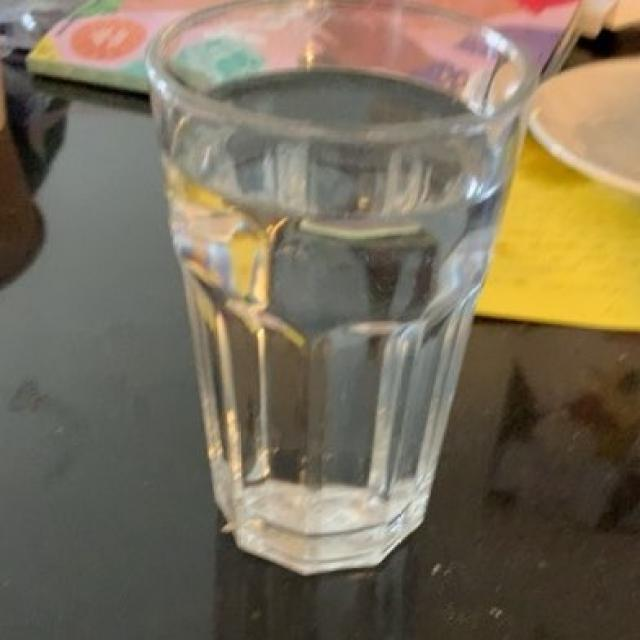water: (171, 83, 505, 521)
